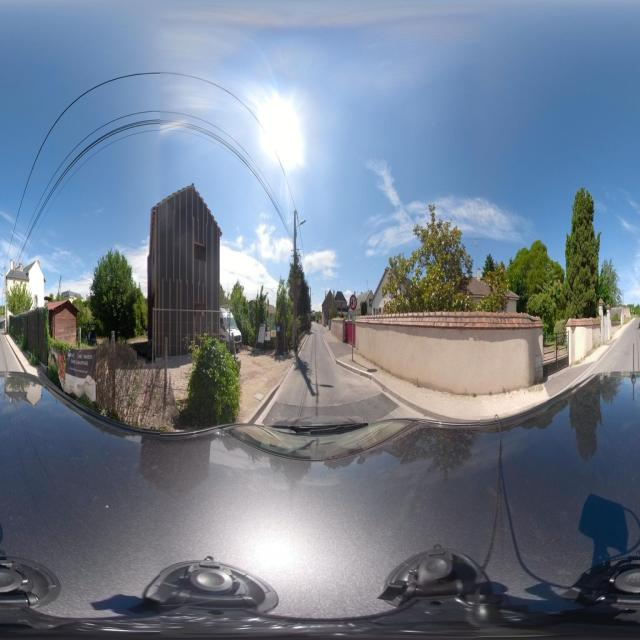car: (218, 308, 243, 354)
